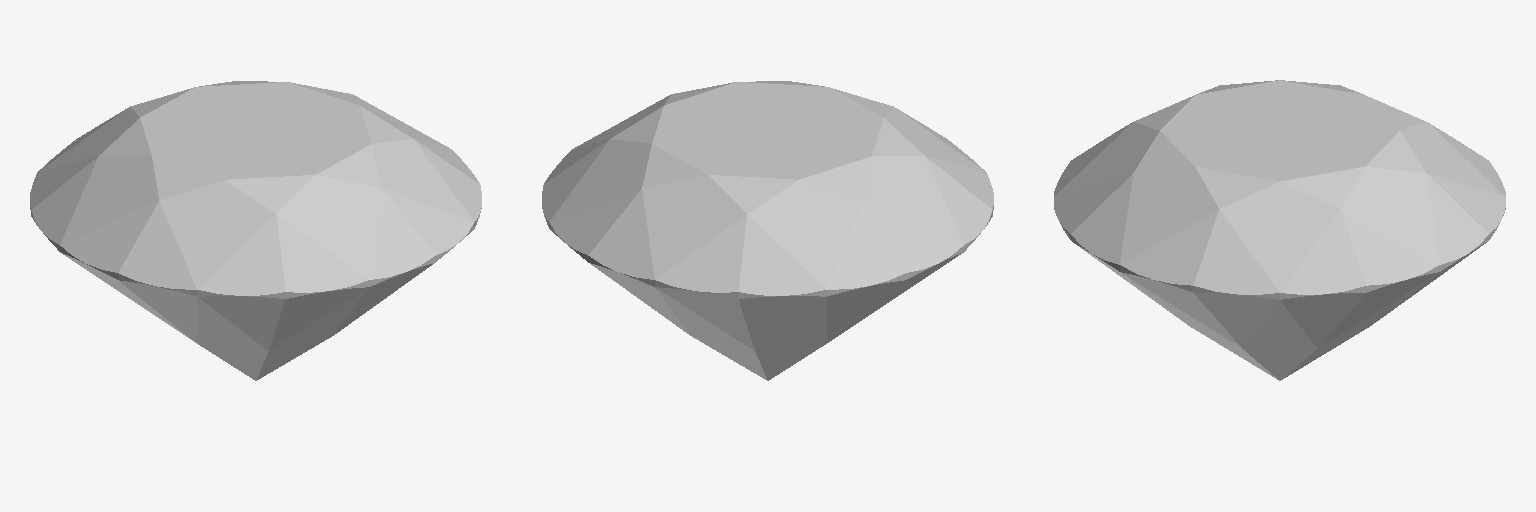
3 views of the same model, side by side, from view 1: azimuth 30°, elevation 25°; view 2: azimuth 150°, elevation 25°; view 3: azimuth 270°, elevation 25° (orthographic).
Visible parts, largest first — view 1: dobj_dmesh; view 2: dobj_dmesh; view 3: dobj_dmesh.
Part boxes in pixels (left/top/right/bottom): dobj_dmesh: left=30, top=81, right=481, bottom=380; dobj_dmesh: left=542, top=81, right=993, bottom=380; dobj_dmesh: left=1054, top=80, right=1505, bottom=380.
Size of the model in its own units: 0.6529 by 0.3983 by 0.6529.